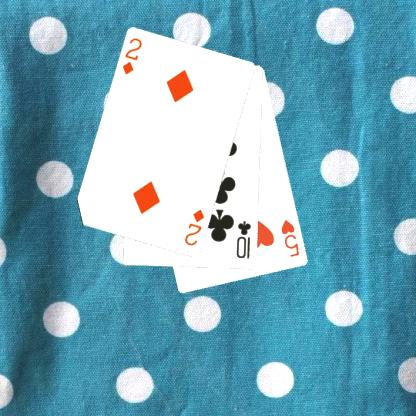10C: (234, 219, 253, 260)
2D: (182, 207, 206, 247), (120, 36, 144, 76)
5H: (278, 218, 301, 258)
